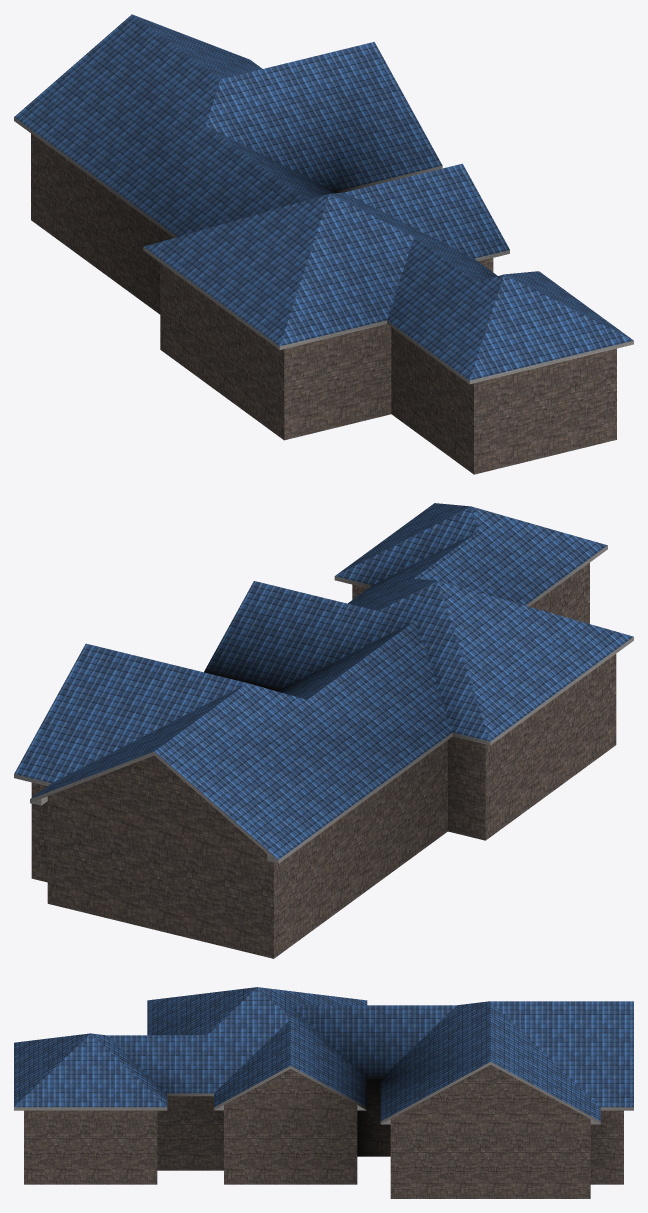
File: House_00.glb
The picture shows the model from 3 angles, top to bottom: view 1: azimuth 30°, elevation 25°; view 2: azimuth 150°, elevation 25°; view 3: azimuth 270°, elevation 25°; orthographic projection. The views are drawn at different scales.
Visible parts, largest first — view 1: Export; view 2: Export; view 3: Export.
Part boxes in pixels (left/top/right/bottom): Export: left=14, top=14, right=633, bottom=474; Export: left=14, top=503, right=633, bottom=958; Export: left=14, top=987, right=633, bottom=1198.
Bounding box in the file's own units: 8.6 × 4.68 × 18.6.
Materials: 3 (3 with a texture image).
